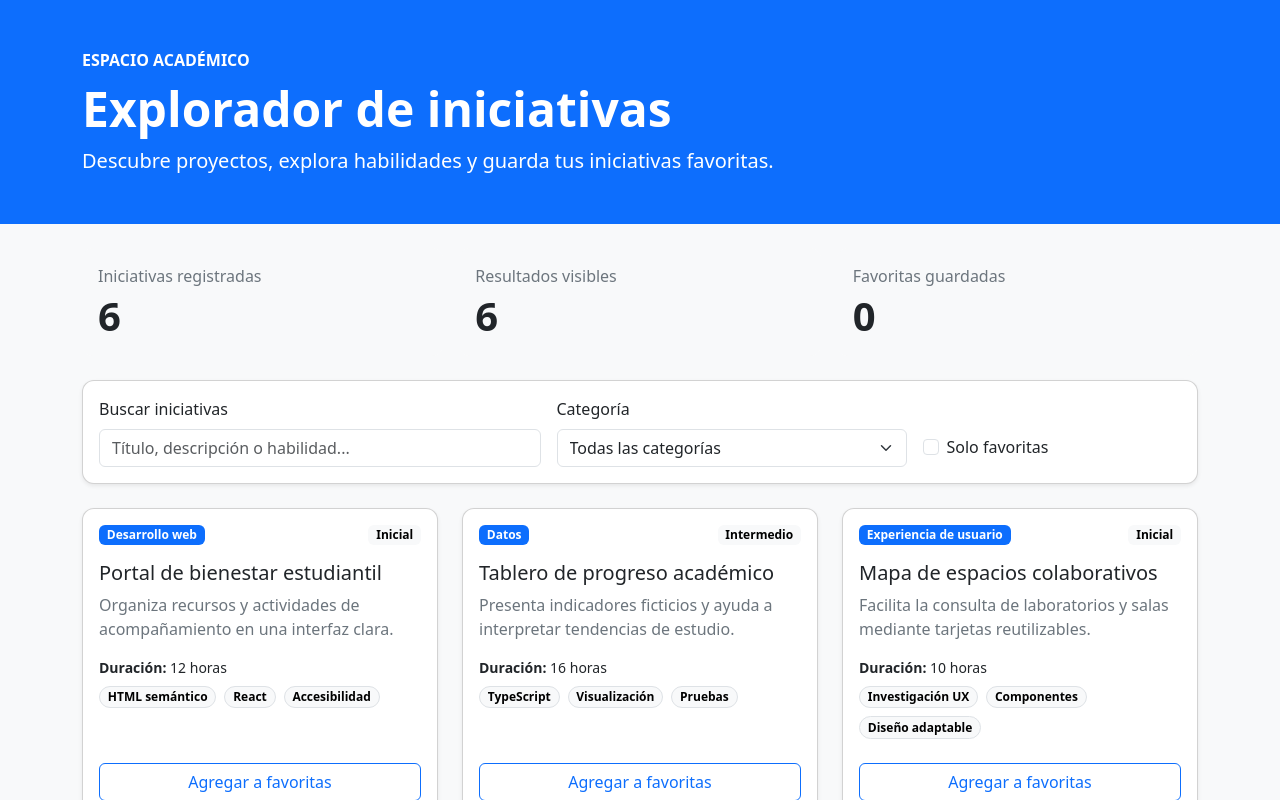
Test: Aplicación Explorador de iniciativas › muestra un mensaje si no hay resultados
Type "xyz-no-existe" into the search field labelled "Buscar iniciativas" at (320, 448), box 99,429 -> 540,467
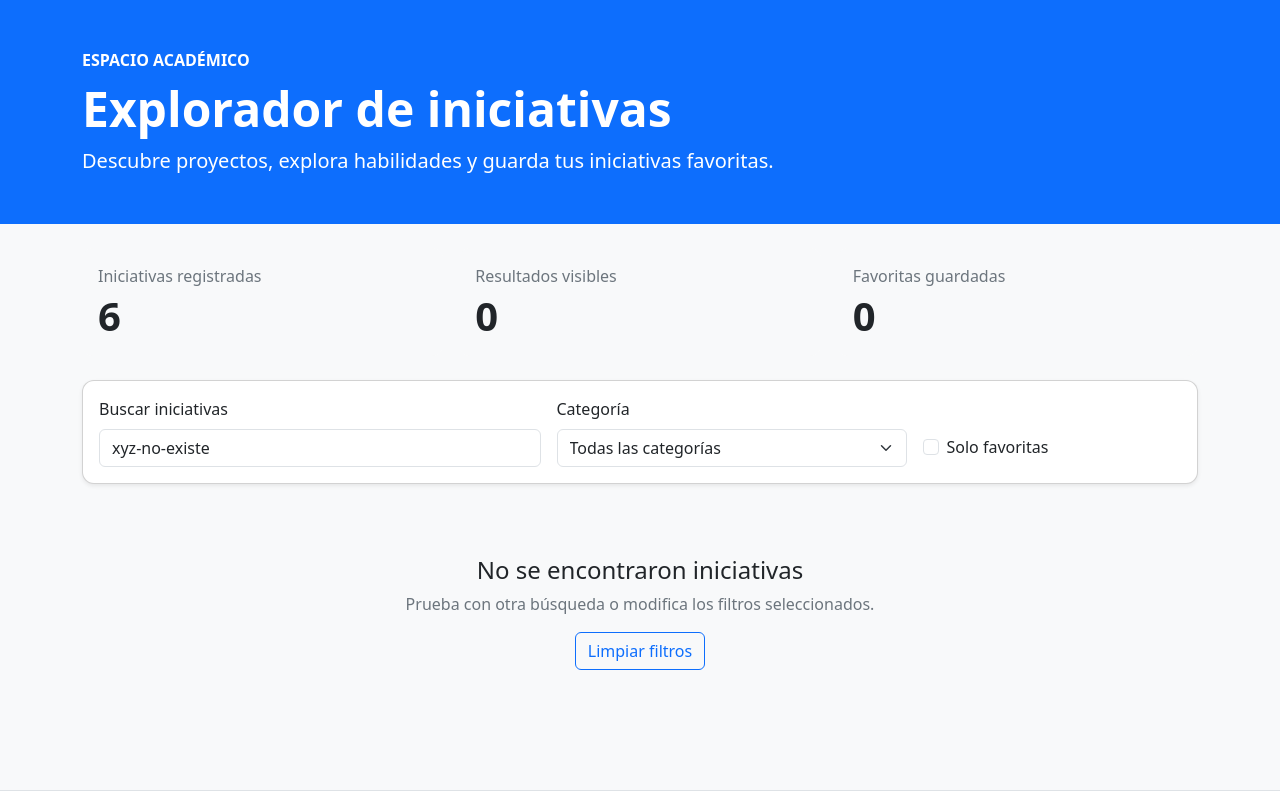
Expected: the message shows "No se encontraron iniciativas", 477,553 -> 803,586
